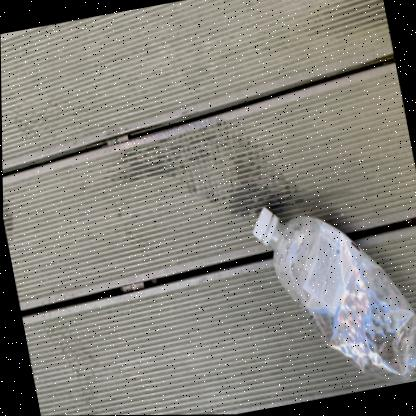Plastic: (253, 208, 416, 383)
